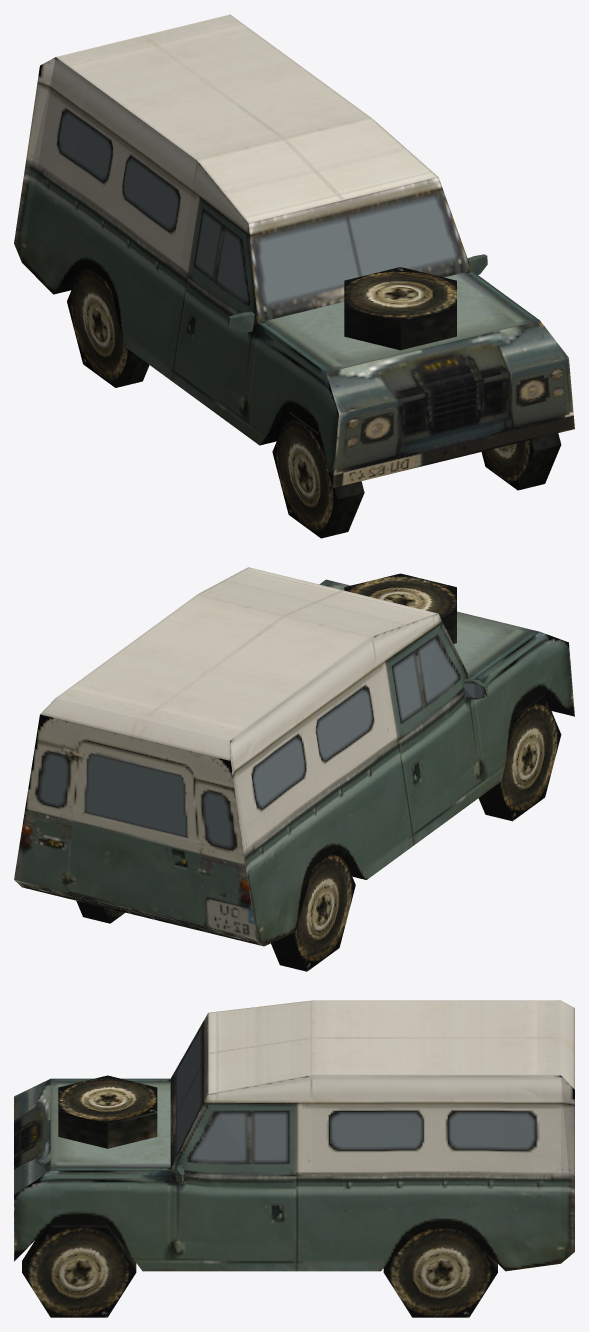
The model's file is Car01.obj.
The picture shows the model from 3 angles, top to bottom: view 1: azimuth 30°, elevation 25°; view 2: azimuth 150°, elevation 25°; view 3: azimuth 270°, elevation 25°; orthographic projection. The views are drawn at different scales.
Parts seen in each view (by area): view 1: Car01.Chassic, Car01.Wheel.Fwd, Car01.Wheel.Bwd; view 2: Car01.Chassic, Car01.Wheel.Bwd, Car01.Wheel.Fwd; view 3: Car01.Chassic, Car01.Wheel.Fwd, Car01.Wheel.Bwd.
Part boxes in pixels (left/top/right/bottom): Car01.Chassic: left=14, top=14, right=574, bottom=487; Car01.Wheel.Fwd: left=272, top=412, right=561, bottom=538; Car01.Wheel.Bwd: left=67, top=267, right=149, bottom=387; Car01.Chassic: left=14, top=567, right=574, bottom=946; Car01.Wheel.Bwd: left=76, top=850, right=355, bottom=971; Car01.Wheel.Fwd: left=478, top=695, right=561, bottom=821; Car01.Chassic: left=14, top=1000, right=574, bottom=1271; Car01.Wheel.Fwd: left=22, top=1225, right=136, bottom=1317; Car01.Wheel.Bwd: left=383, top=1228, right=497, bottom=1317.
Bounding box in the file's own units: 2.68 × 2.6 × 5.7.
